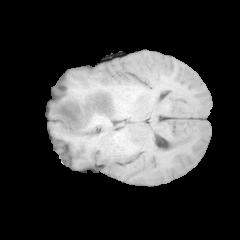glioma: (48, 81, 127, 136)
